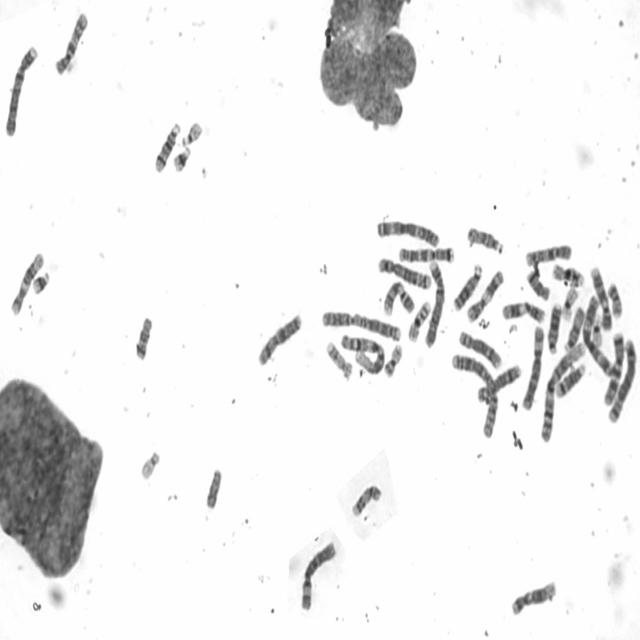A1: (538, 339, 586, 444), (338, 331, 386, 376)
A2: (449, 350, 499, 440), (319, 306, 402, 342)
A3: (581, 291, 618, 379), (373, 215, 441, 249)
B4: (3, 41, 39, 138), (422, 256, 446, 349)
B5: (605, 332, 637, 424), (375, 254, 432, 291)
C10: (52, 9, 90, 76), (523, 240, 573, 268)
C11: (465, 266, 505, 324), (500, 298, 546, 324)
C12: (8, 249, 46, 316), (508, 576, 558, 618)
C6: (297, 536, 338, 613), (520, 321, 546, 411)
C7: (602, 327, 626, 408), (396, 242, 456, 264)
C8: (456, 325, 503, 370), (475, 361, 523, 404)
C9: (589, 263, 612, 332), (381, 278, 417, 317)
D13: (450, 260, 484, 314), (544, 298, 562, 355)
D14: (152, 119, 181, 175), (554, 359, 587, 399)
D15: (464, 223, 505, 256), (562, 304, 586, 354)
E16: (406, 296, 432, 344), (550, 261, 585, 288)
E17: (324, 337, 354, 382), (349, 480, 383, 519)
E18: (133, 312, 154, 362), (524, 267, 550, 301)
F19: (560, 284, 580, 322), (590, 309, 604, 350)
F20: (382, 340, 404, 380), (606, 279, 624, 320)
G21: (171, 143, 192, 173), (30, 267, 51, 296)
G22: (138, 445, 162, 481), (179, 118, 204, 148)
X: (255, 310, 304, 368)
Y: (204, 464, 224, 511)
